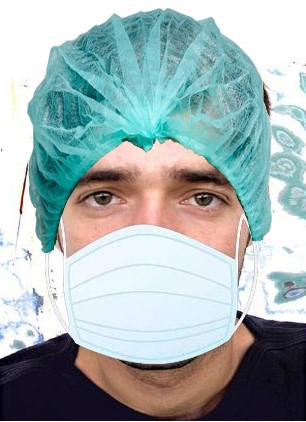with_mask_and_cap: (29, 6, 271, 364)
